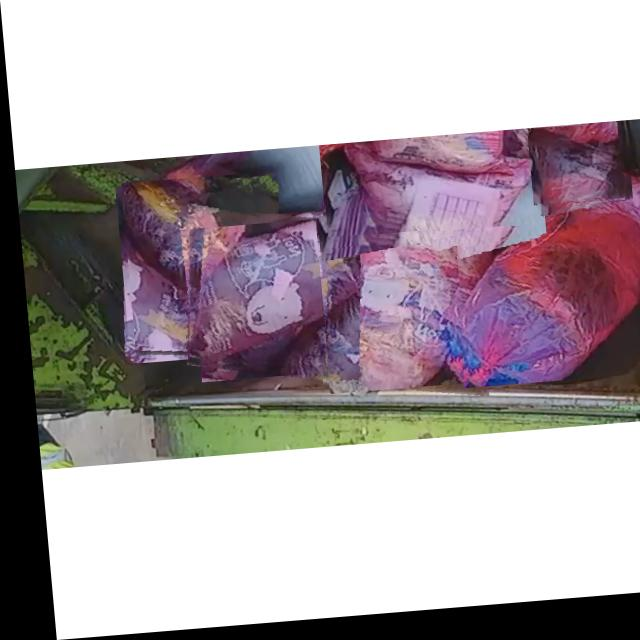other_trashbag: (452, 184, 640, 394), (319, 207, 488, 398), (117, 183, 273, 359), (181, 223, 358, 367), (322, 148, 530, 243), (524, 140, 616, 212)
